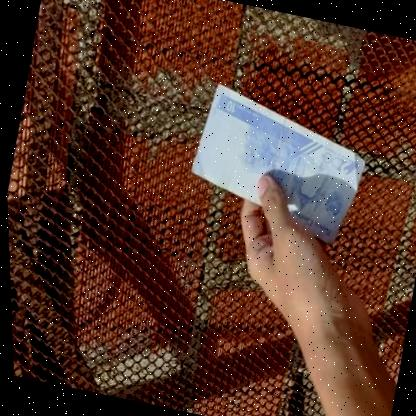ten-back-vef: (177, 80, 377, 245)
